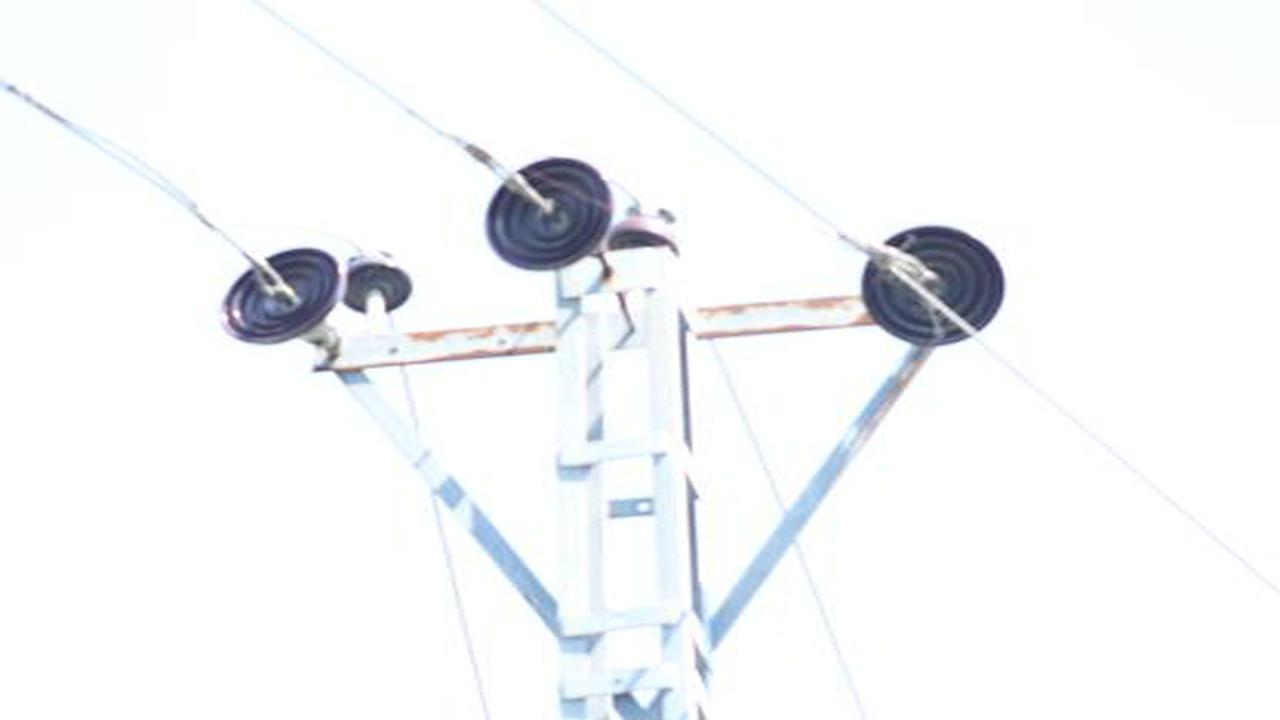insulator_disc: (858, 223, 1008, 348), (483, 147, 615, 277), (218, 243, 344, 344)
insulator_pin: (615, 192, 683, 256), (347, 247, 411, 310)
